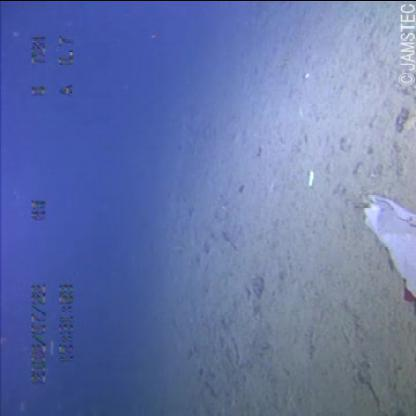Rác: (347, 195, 415, 311)
